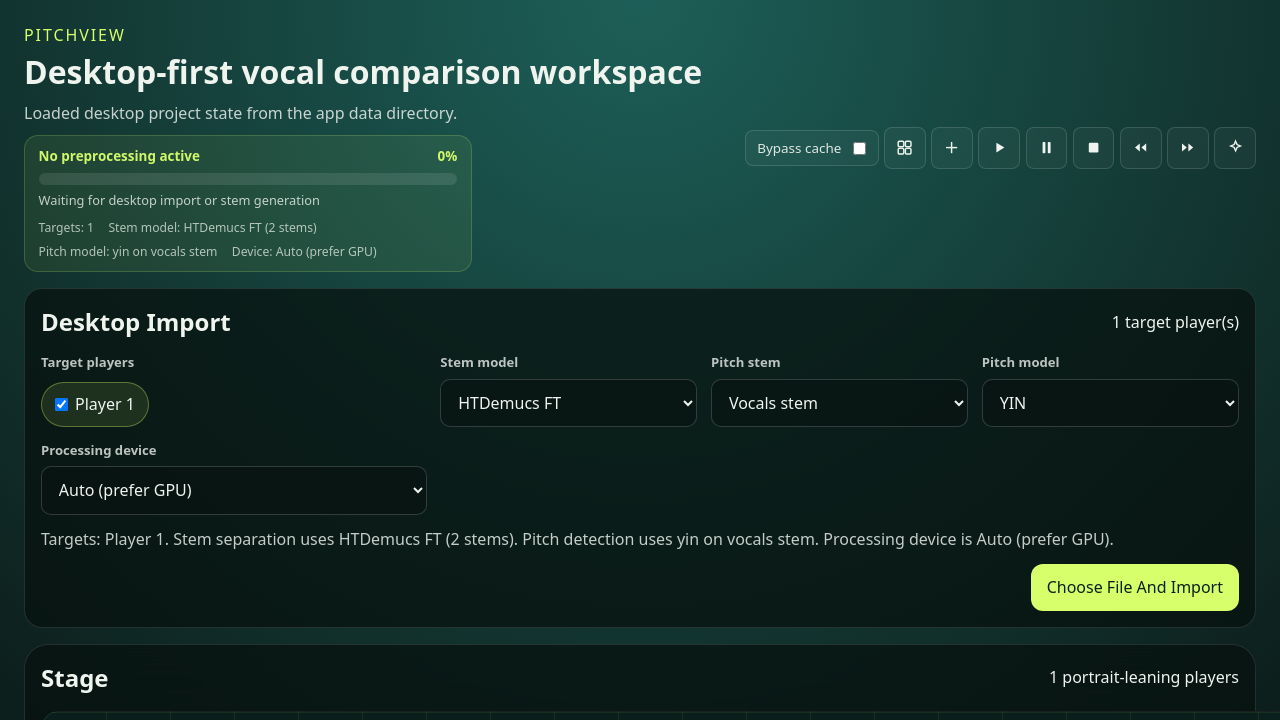
Test case: App desktop regressions › falls back to normalized audio when original video audio playback is unsupported
Step 1. Click the button named "Play" → (999, 148), box [978,127,1020,169]
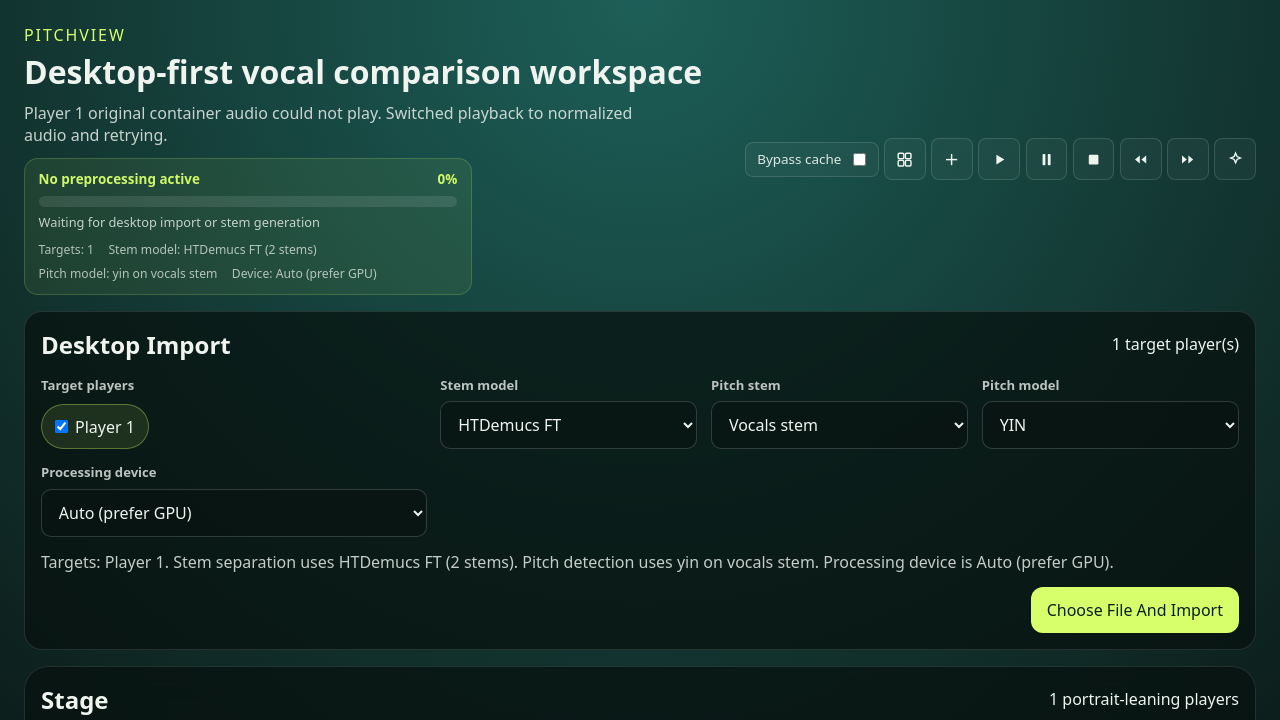
Now the text with class "status-copy" shows "original container audio could not play", box [24,102,632,146]
